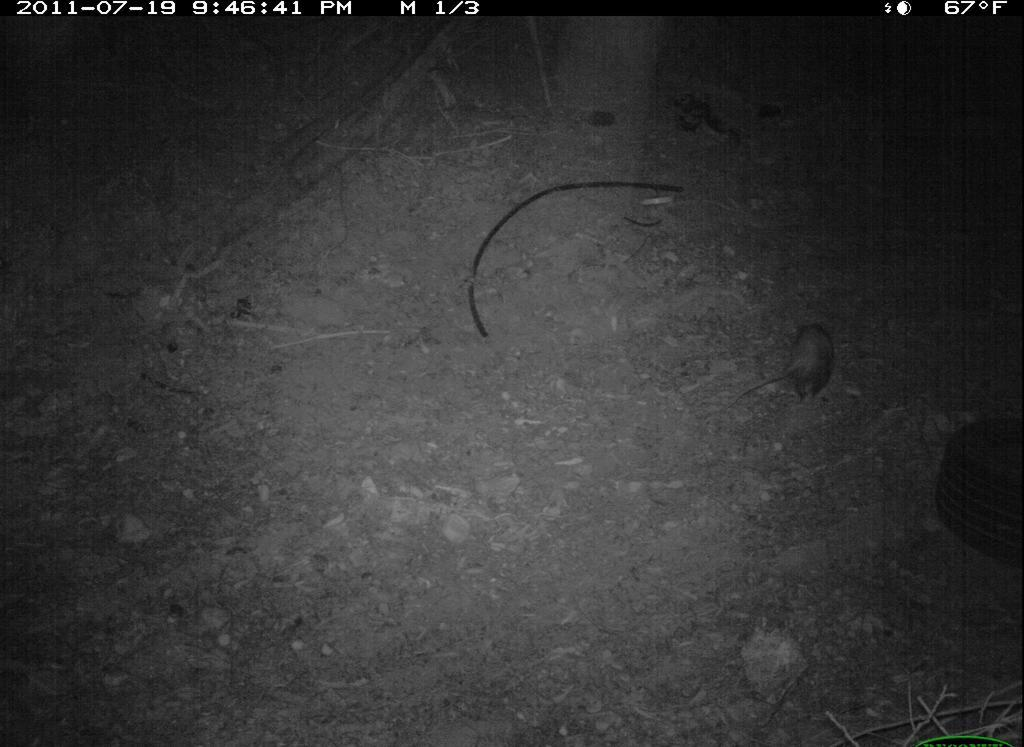opossum: (739, 309, 848, 423)
